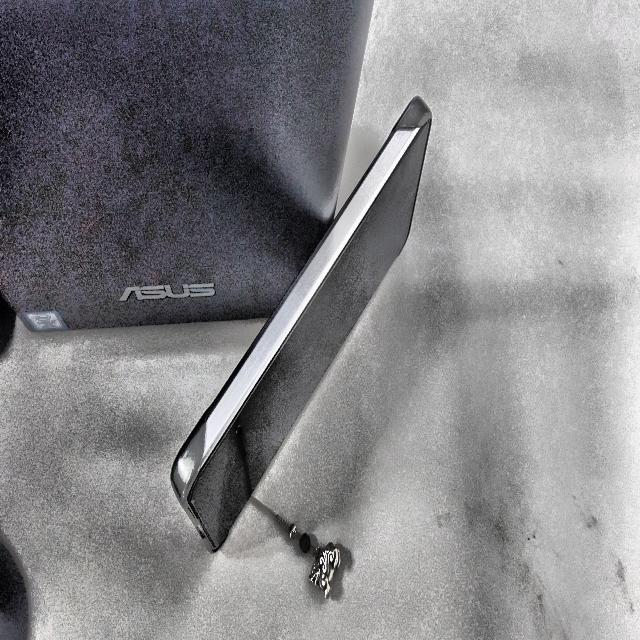PHONE: (172, 98, 431, 552)
